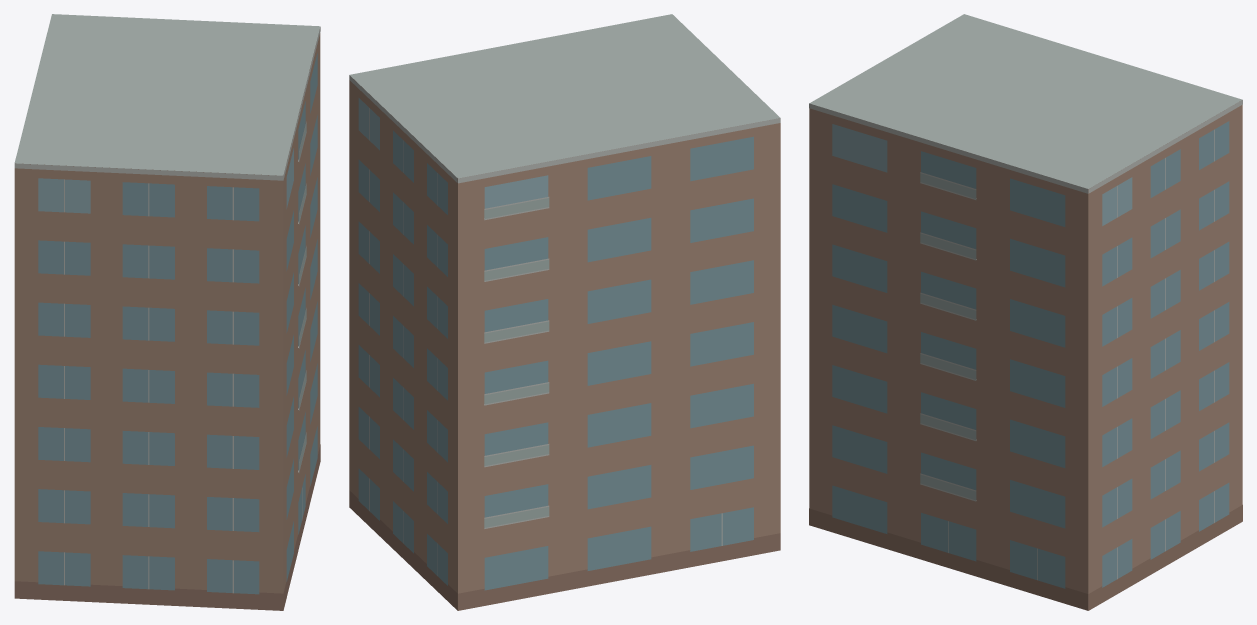
Rendered from survey-upis-32508725.glb.
3 renders of one model, left to right at view 1: azimuth 30°, elevation 25°; view 2: azimuth 150°, elevation 25°; view 3: azimuth 270°, elevation 25°, orthographic. The views are drawn at different scales.
Parts seen in each view (by area): view 1: survey-upis-32508725.tmp; view 2: survey-upis-32508725.tmp; view 3: survey-upis-32508725.tmp.
Part boxes in pixels (<box>): survey-upis-32508725.tmp: <box>14,14,320,610</box>; survey-upis-32508725.tmp: <box>349,14,780,610</box>; survey-upis-32508725.tmp: <box>809,14,1242,610</box>.
Bounding box in the file's own units: 19.01 × 21.35 × 19.89.
